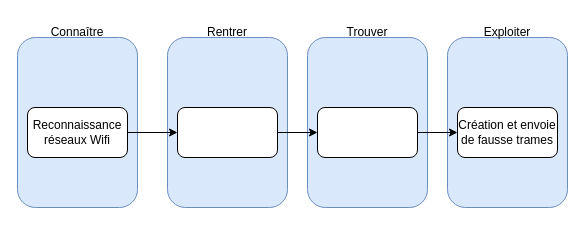
This 585x225 diagram has some shape labels left out. The shapes that lost their labels are listed below. From the top down, each one's box as (x1, y1, x2, y2) in pixels, then its label:
(176, 106, 278, 158): Intrusion dans le réseau Wifi
(316, 106, 418, 158): Découverte des trames des capteurs
